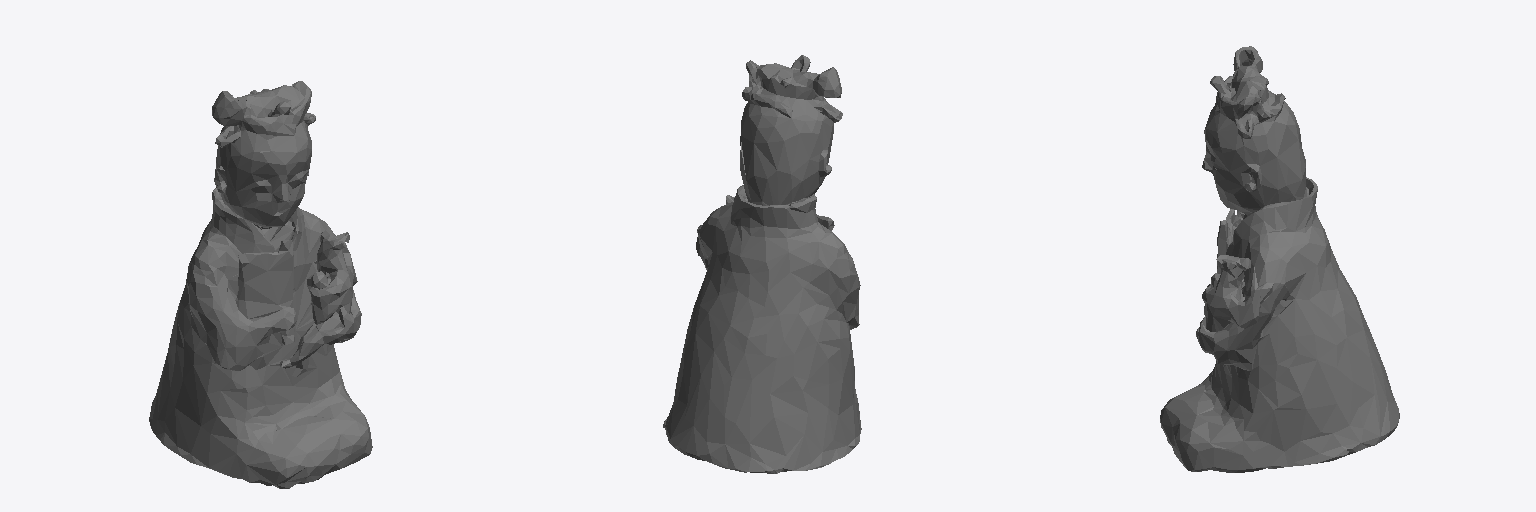
3 renders of one model, left to right at view 1: azimuth 30°, elevation 25°; view 2: azimuth 150°, elevation 25°; view 3: azimuth 270°, elevation 25°, orthographic.
Parts seen in each view (by area): view 1: Polygonal_Model_1 Triangles_1; view 2: Polygonal_Model_1 Triangles_1; view 3: Polygonal_Model_1 Triangles_1.
Part boxes in pixels (x1,y1,x2,y2): Polygonal_Model_1 Triangles_1: (149, 81, 372, 488); Polygonal_Model_1 Triangles_1: (663, 55, 861, 473); Polygonal_Model_1 Triangles_1: (1160, 46, 1399, 472).
Size of the model in its own units: 2.4 by 5.1 by 2.97.